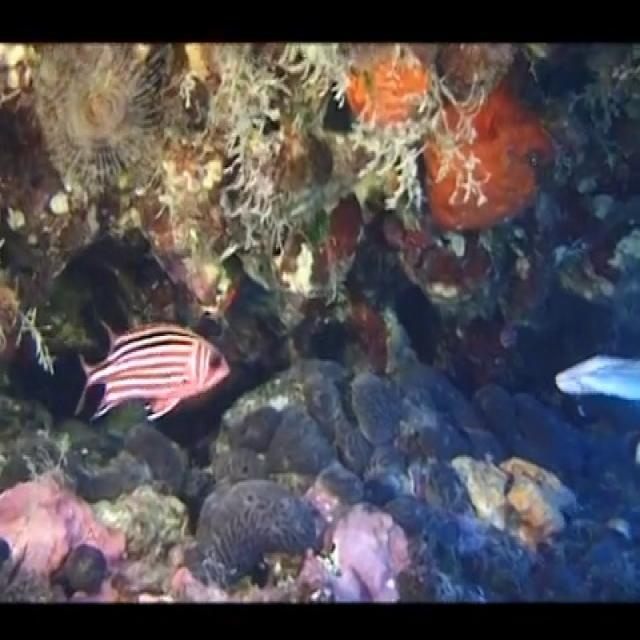Asker Baligi: (72, 315, 232, 425)
